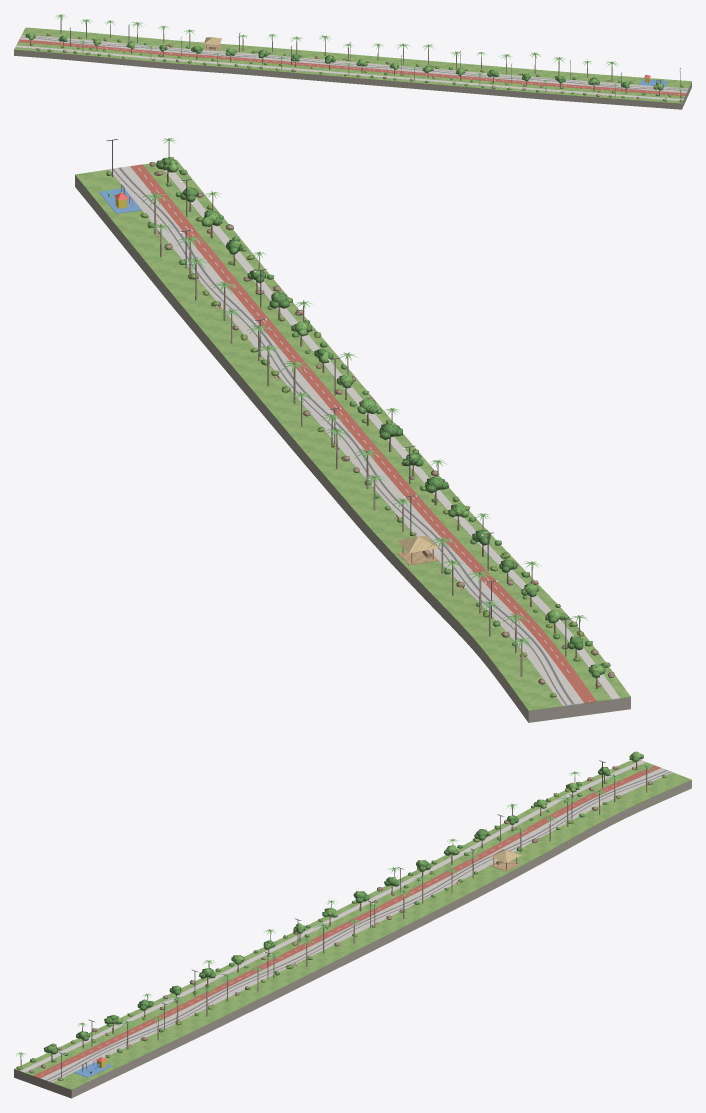
The model's file is parque_08.glb.
3 renders of one model, top to bottom at view 1: azimuth 30°, elevation 25°; view 2: azimuth 150°, elevation 25°; view 3: azimuth 270°, elevation 25°, orthographic. The views are drawn at different scales.
Parts seen in each view (by area): view 1: parque_08; view 2: parque_08; view 3: parque_08.
Boxes of the visible parts, x1=… form: parque_08: x1=14, y1=23, x2=691, y2=109; parque_08: x1=75, y1=138, x2=630, y2=722; parque_08: x1=14, y1=759, x2=691, y2=1098.
Bounding box in the file's own units: 246 × 14.42 × 215.
Materials: 27 (14 with a texture image).
